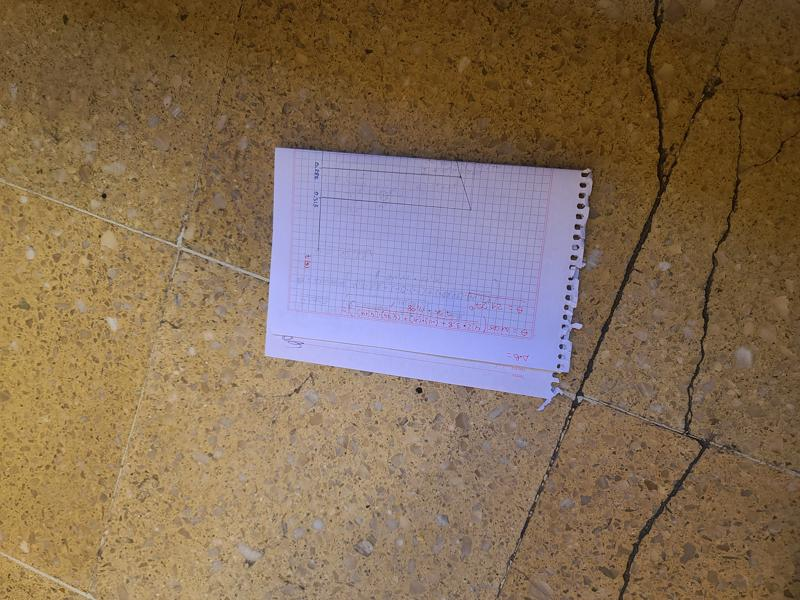papel: (265, 148, 594, 401)
